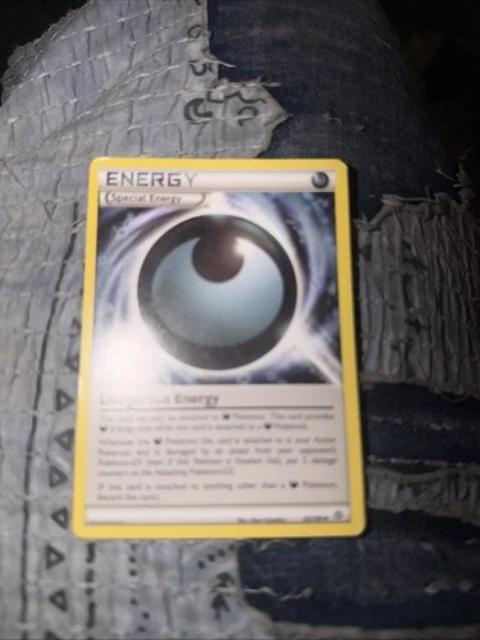Card: (67, 151, 370, 543)
Name: (92, 388, 224, 412)
